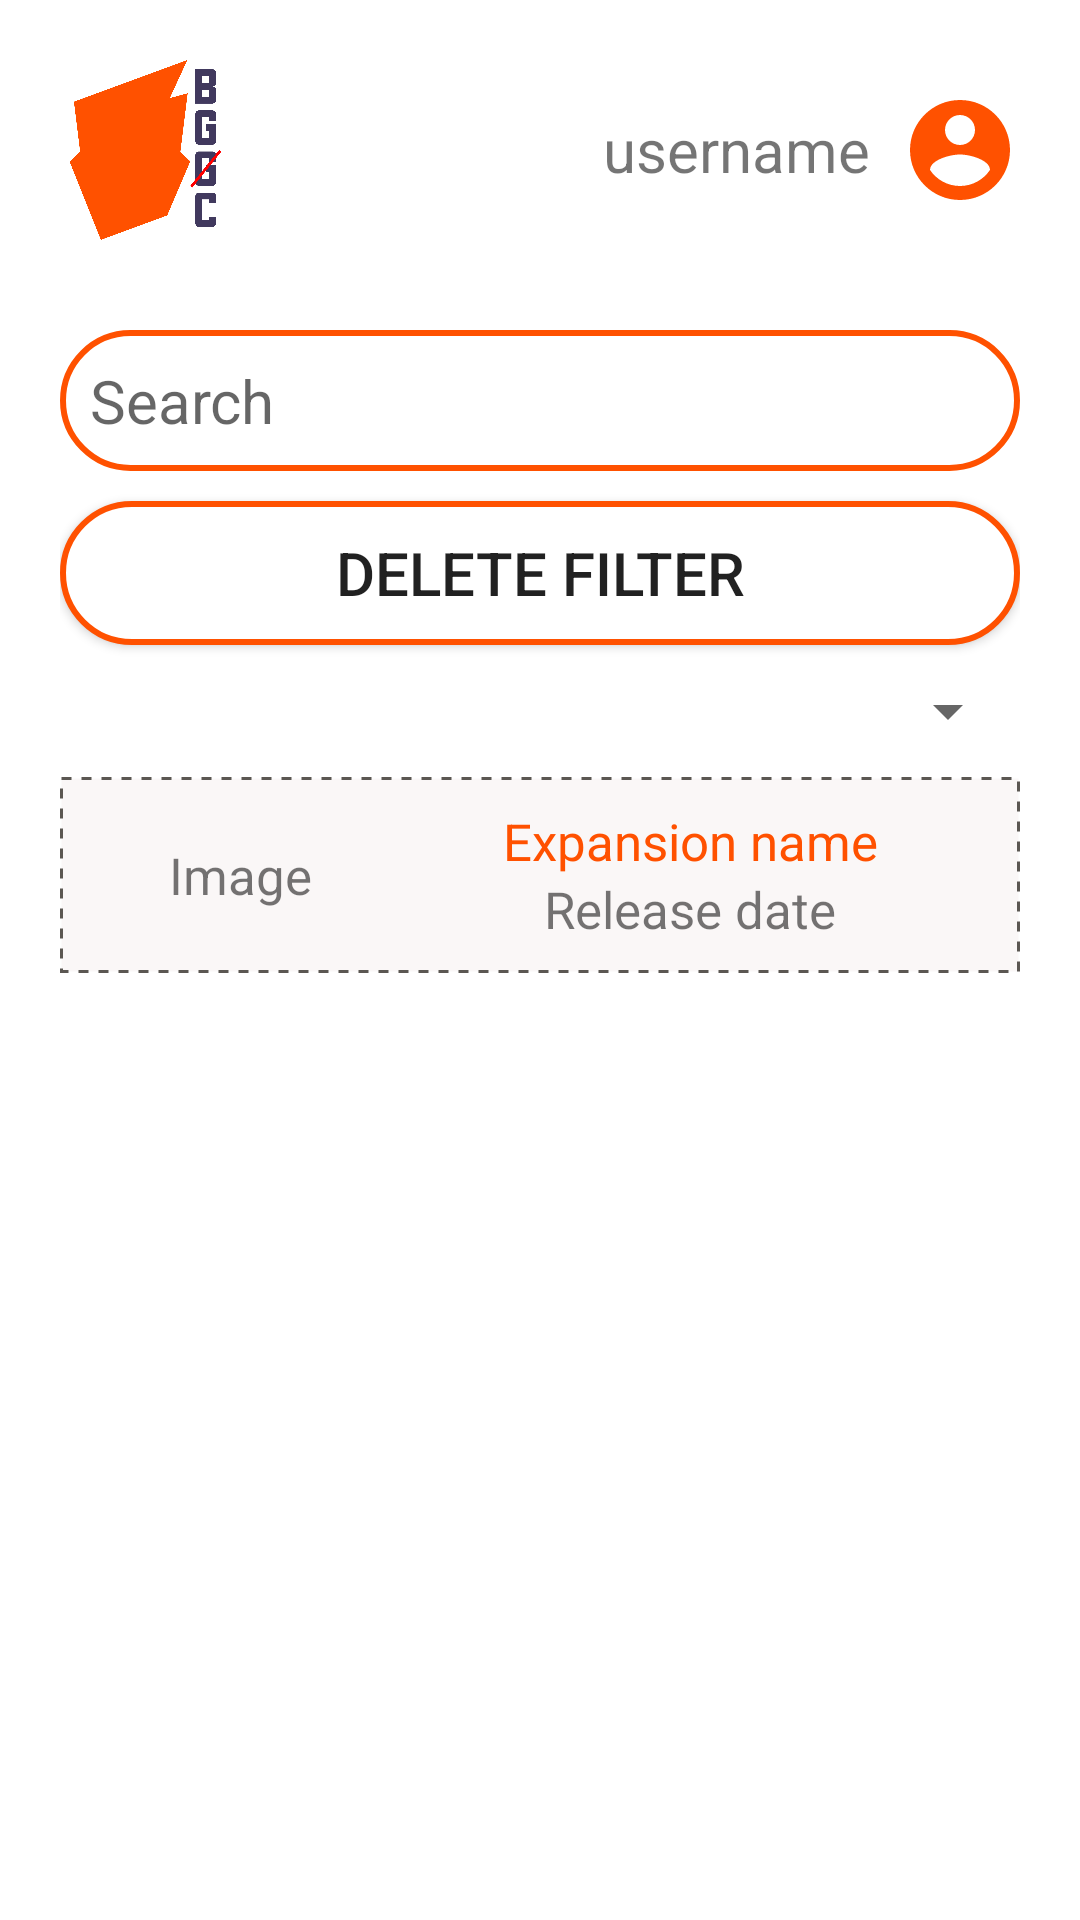

Screen size 1080w x 1920h. Icon name, then its center in pixels as (x=x, y=y):
account circle: (x=960, y=150)
